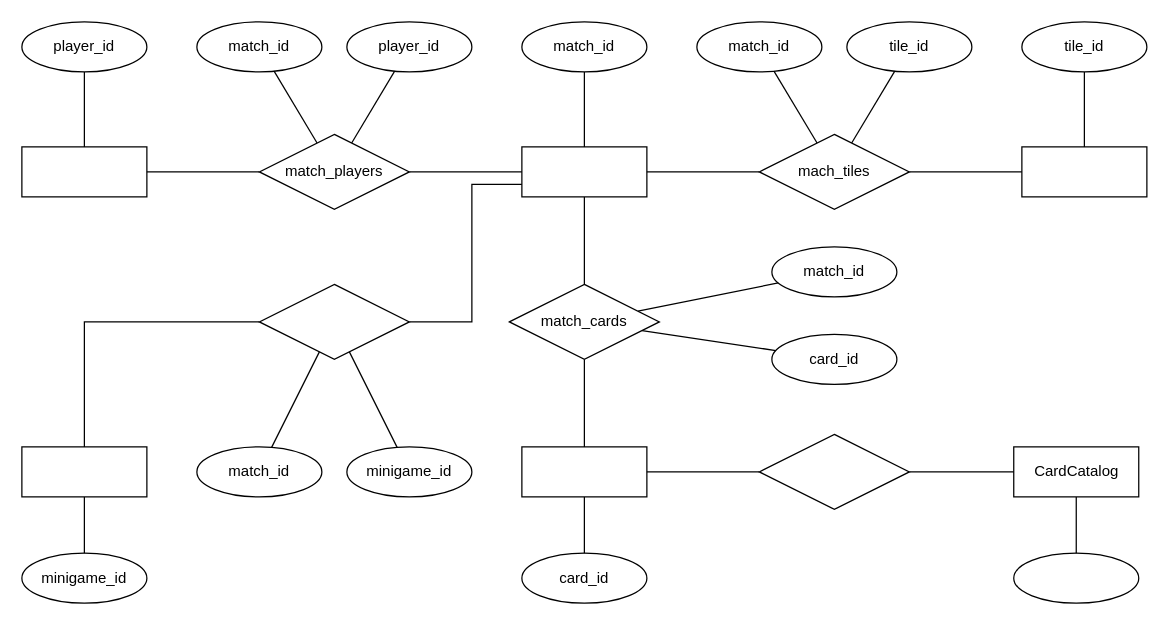
This 1169x625 diagram has some shape labels left out. Each missing label, with the centre of its shape:
"Card" belongs at [584,471].
"card_name" belongs at [1075,577].
"HAS" belongs at [833,471].
"Match" belongs at [584,171].
"match_minigames" belongs at [333,321].
"Minigame" belongs at [84,471].
"Player" belongs at [84,171].
"Tile" belongs at [1084,171].
